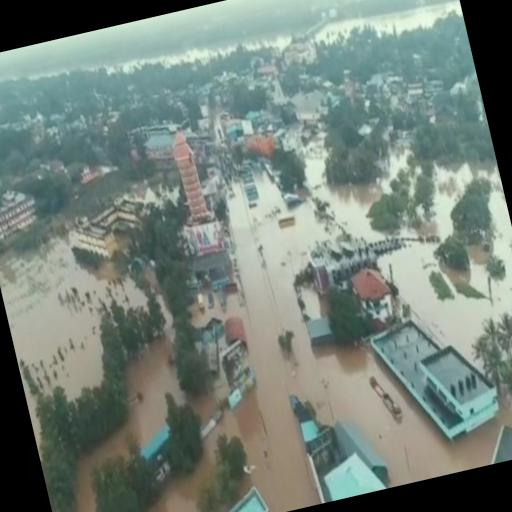flood: (148, 137, 512, 512), (380, 163, 512, 364), (316, 0, 463, 42), (158, 41, 237, 62), (249, 33, 290, 49)
house: (368, 302, 512, 458), (158, 126, 228, 272), (58, 189, 164, 269), (313, 444, 390, 502), (348, 260, 399, 329), (0, 185, 44, 252), (136, 424, 182, 484), (218, 313, 252, 351)
